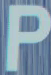Parking: (3, 1, 47, 74)
